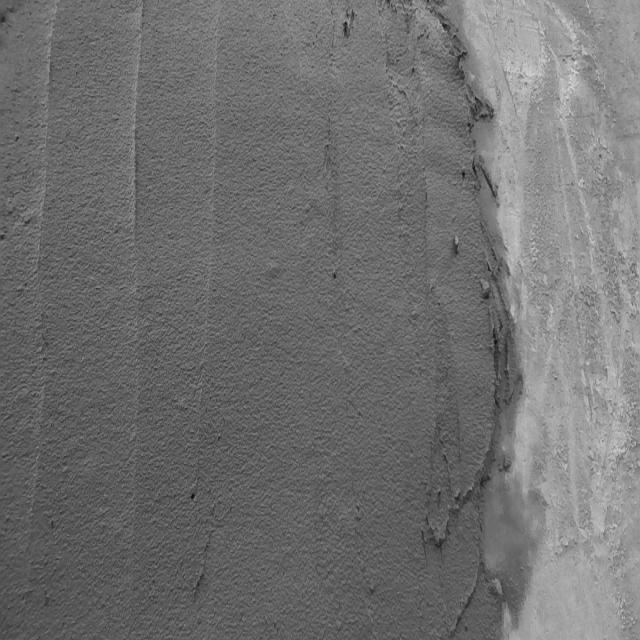trowels marks: (128, 5, 147, 276)
